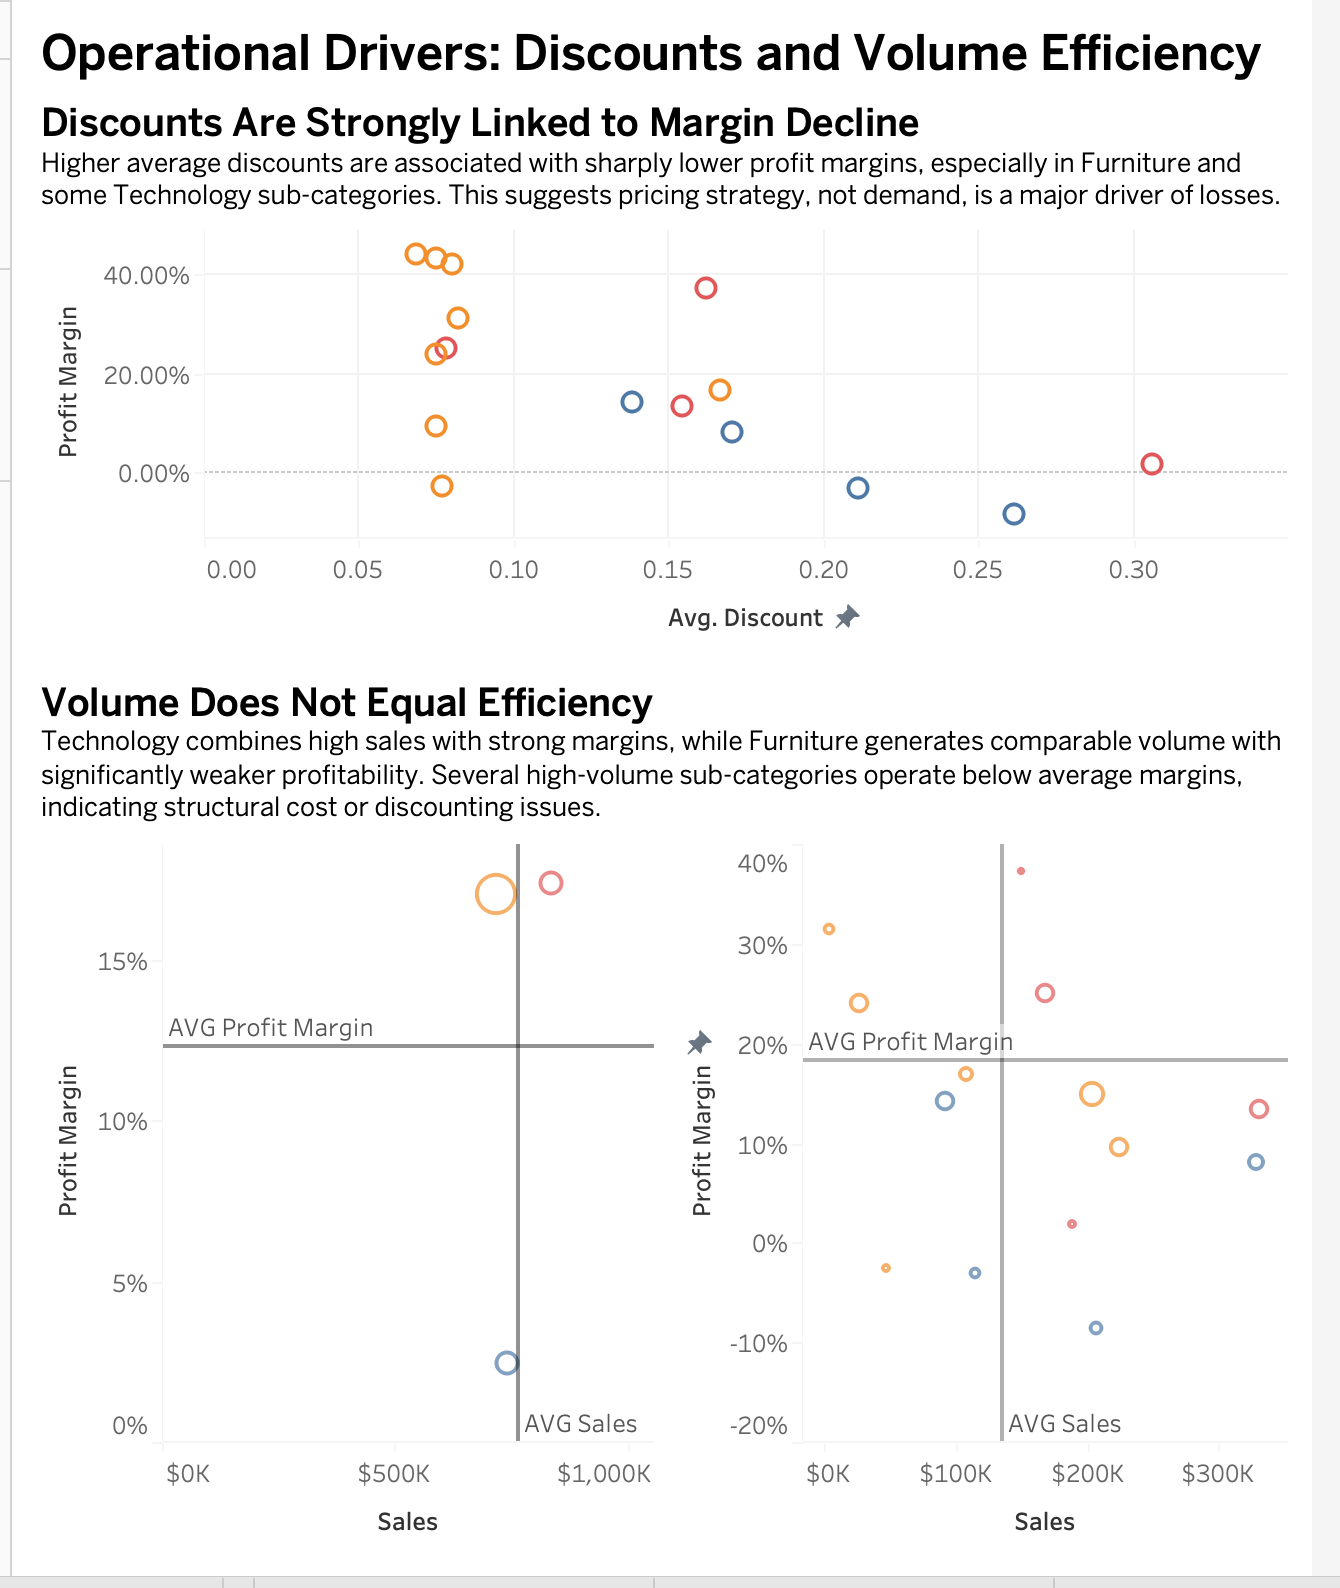

The page's visual inventory and layout, read from the dashboard file:
{"tool":"tableau","page":{"name":"Operational Drivers: Discounts and Volume Efficiency","canvas":[650,860],"ordinal":2},"visuals":[{"type":"title","box":[8,10.1,634,46.6]},{"type":"text","box":[8,56.7,634,83.1]},{"type":"worksheet","title":"Discount Impact on Profit Margin","mark":"Automatic","rows":["Calculation_0857987247722496"],"cols":["Discount"],"box":[8,139.8,634,236.7]},{"type":"text","box":[8,376.4,634,89]},{"type":"worksheet","title":"Volume VS Efficiency by Category","mark":"Automatic","rows":["Calculation_0857987247722496"],"cols":["Sales"],"box":[8,465.4,317,384.5]},{"type":"worksheet","title":"Volume VS Efficiency Sub-Category","mark":"Automatic","rows":["Calculation_0857987247722496"],"cols":["Sales"],"box":[325,465.4,317,384.5]}]}

Visuals, with their boxes on the page's 650x860 design canvas (x1, y1, x2, y2). These are canvas units, not pixel positions in the 1340x1588 screenshot, which may show the page scaled, cropped or inside an application window:
title: bbox=(8, 10, 642, 57)
text: bbox=(8, 57, 642, 140)
"Discount Impact on Profit Margin" worksheet: bbox=(8, 140, 642, 376)
text: bbox=(8, 376, 642, 465)
"Volume VS Efficiency by Category" worksheet: bbox=(8, 465, 325, 850)
"Volume VS Efficiency Sub-Category" worksheet: bbox=(325, 465, 642, 850)
